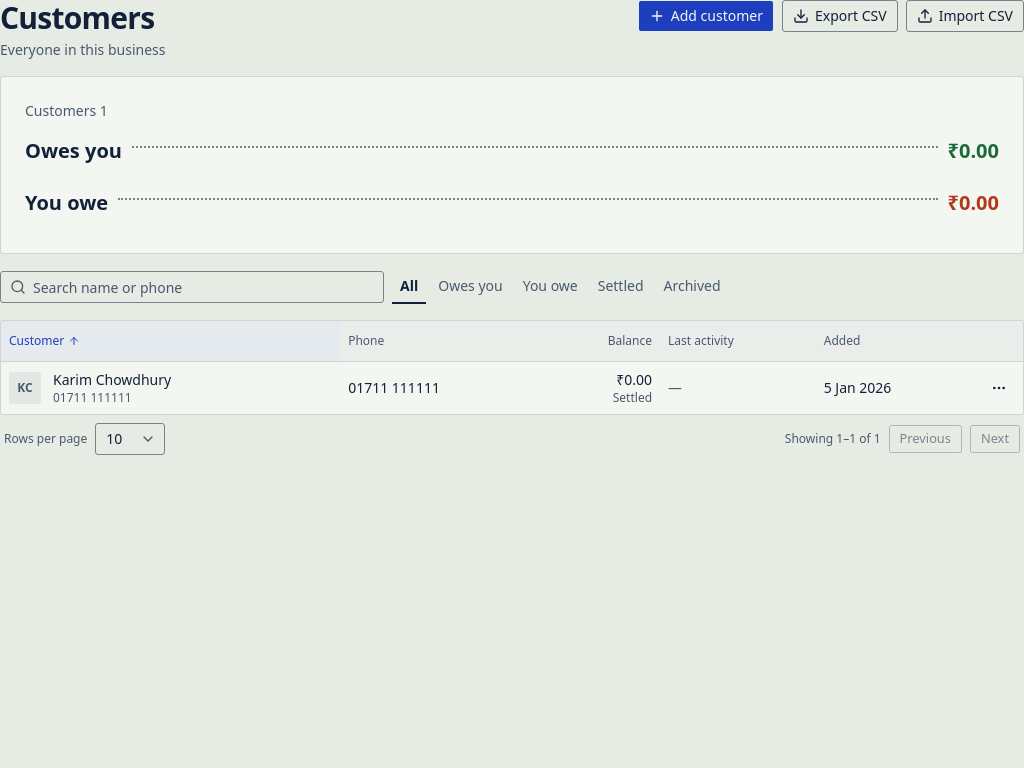
Test: S-30 archive, restore and delete › lets an Editor archive and restore but never destroy
Click the button named "Actions for Karim Chowdhury": (999, 388) [983, 372, 1015, 404]
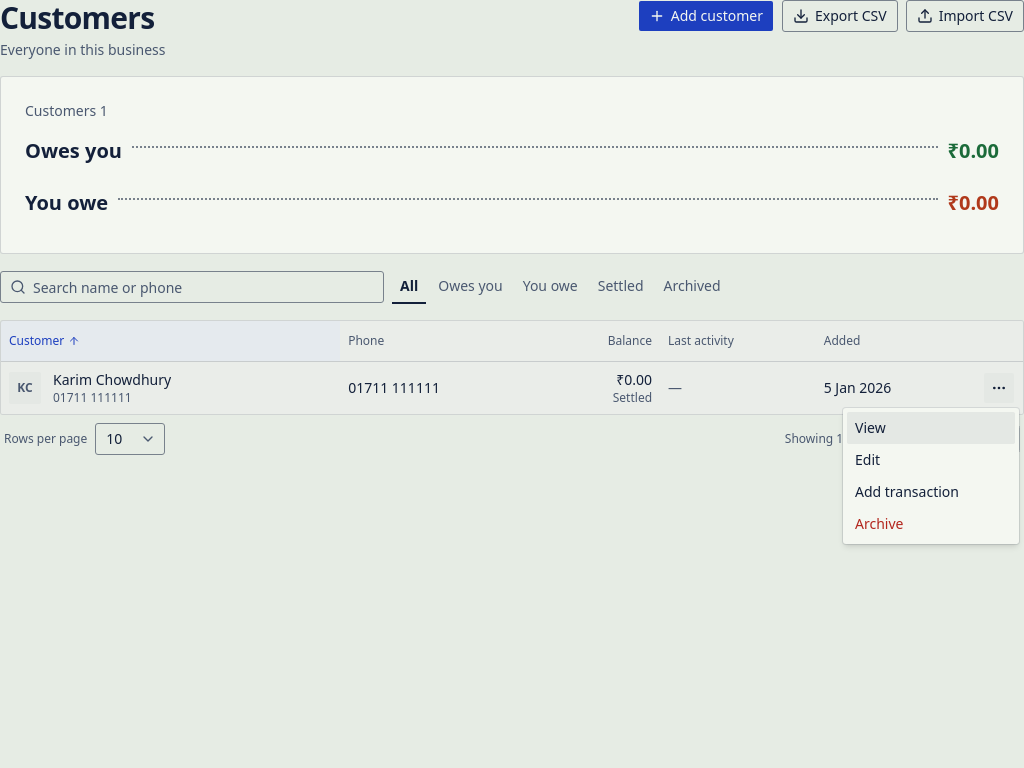
Check: the menu items read "View", "Edit", "Add transaction", "Archive", in this order, box [847, 412, 1015, 444]; [847, 444, 1015, 476]; [847, 476, 1015, 508]; [847, 508, 1015, 540]
Click the button "Archived": (692, 287) [656, 270, 729, 304]
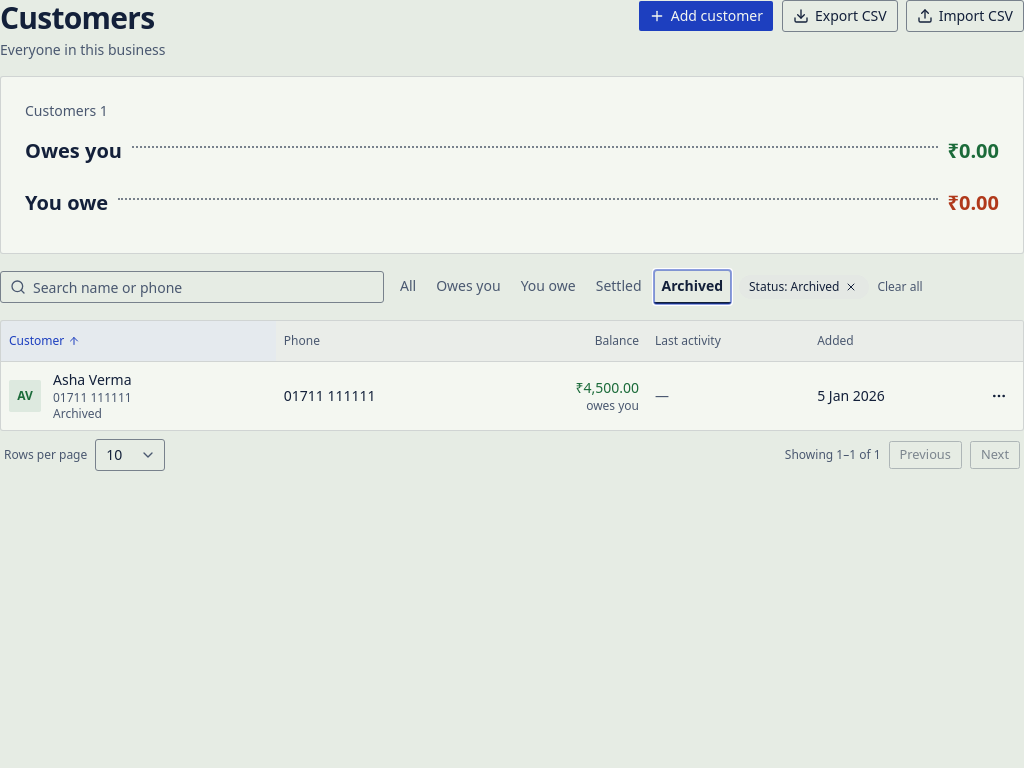
Click the button named "Actions for Asha Verma": (999, 396) [983, 380, 1015, 412]
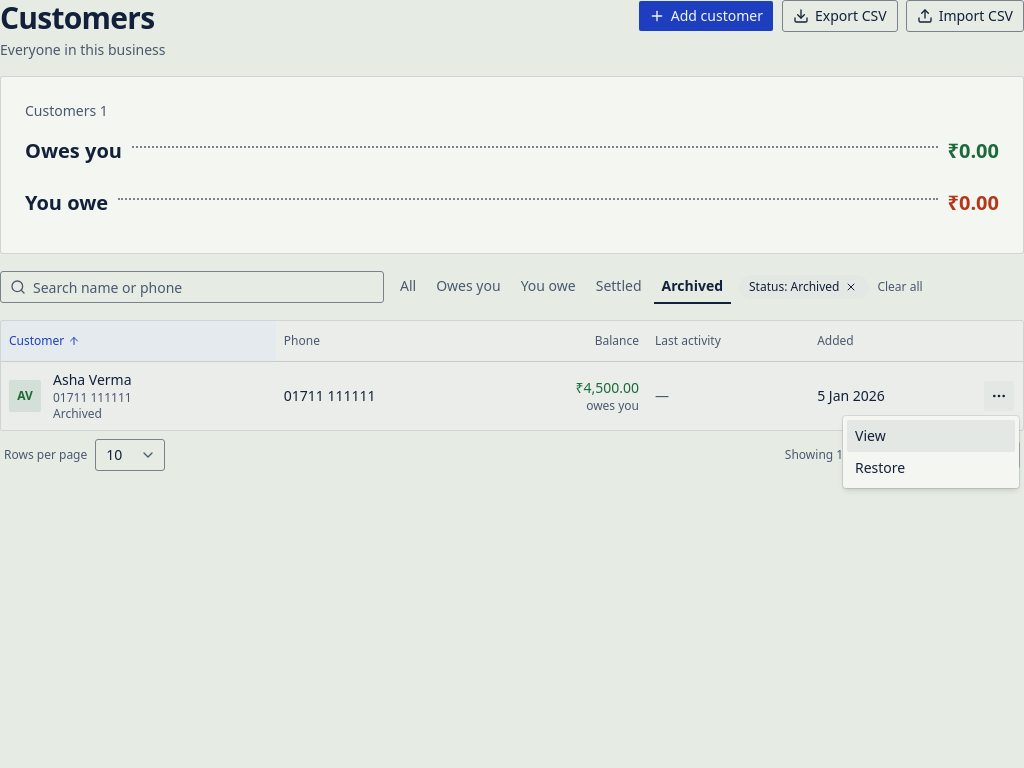
Check: the menu items read "View", "Restore", in this order, box [847, 420, 1015, 452]; [847, 452, 1015, 484]
